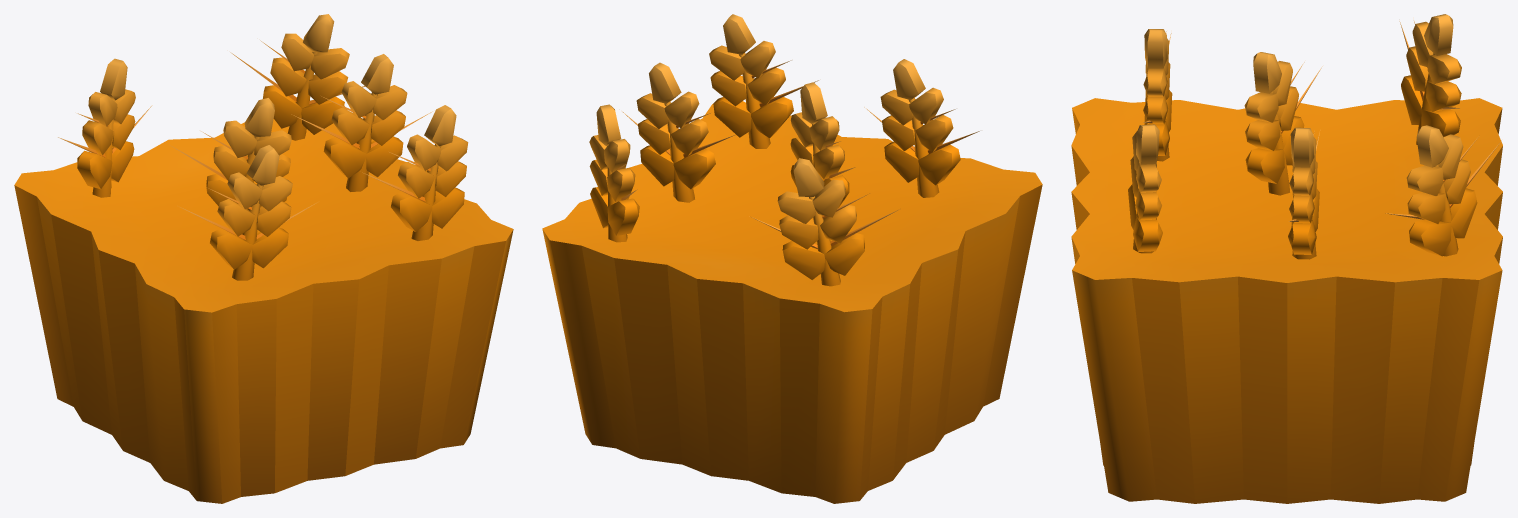
The model's file is Farm_Crop_Wheat_Step_03.fbx.
3 views of the same model, side by side, from view 1: azimuth 30°, elevation 25°; view 2: azimuth 150°, elevation 25°; view 3: azimuth 270°, elevation 25° (orthographic). The views are drawn at different scales.
Visible parts, largest first — view 1: Farm_Crop_Wheat_Step_03; view 2: Farm_Crop_Wheat_Step_03; view 3: Farm_Crop_Wheat_Step_03.
Part boxes in pixels (box(x1,y1,x2,y2)): Farm_Crop_Wheat_Step_03: box(14, 14, 513, 503); Farm_Crop_Wheat_Step_03: box(542, 14, 1042, 503); Farm_Crop_Wheat_Step_03: box(1071, 14, 1502, 503).
Size of the model in its own units: 205 by 189 by 201.
